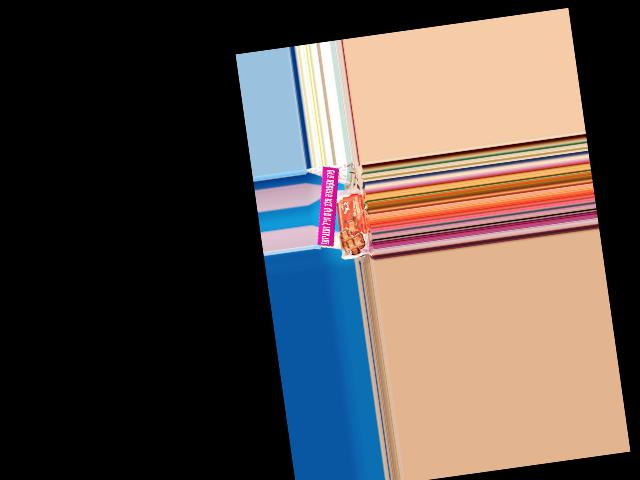chocolate: (331, 185, 372, 261)
